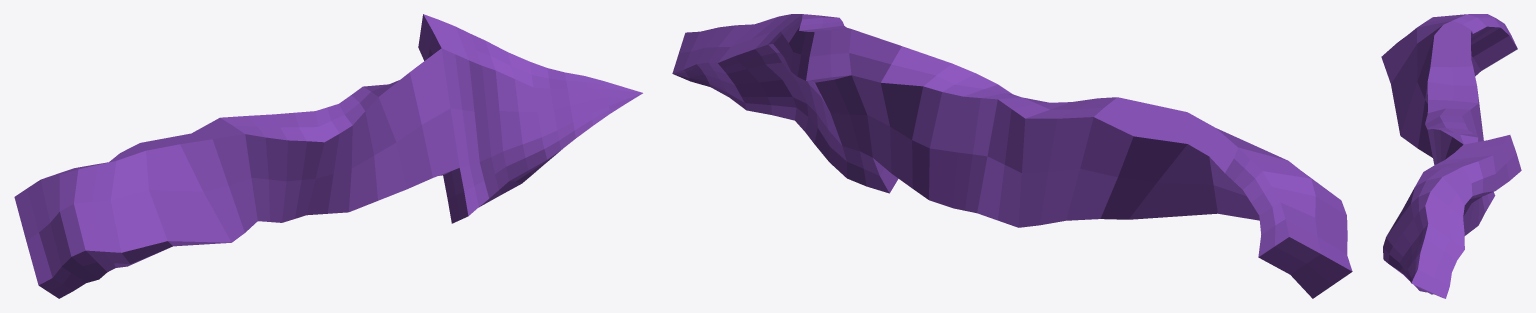
File: Recta.glb
3 renders of one model, left to right at view 1: azimuth 30°, elevation 25°; view 2: azimuth 150°, elevation 25°; view 3: azimuth 270°, elevation 25°, orthographic. The views are drawn at different scales.
Visible parts, largest first — view 1: Plane; view 2: Plane; view 3: Plane.
Boxes of the visible parts, <box> form: Plane: <box>14,14,642,298</box>; Plane: <box>672,14,1352,298</box>; Plane: <box>1381,14,1521,298</box>.
Size of the model in its own units: 11.1 by 3.05 by 2.47.
